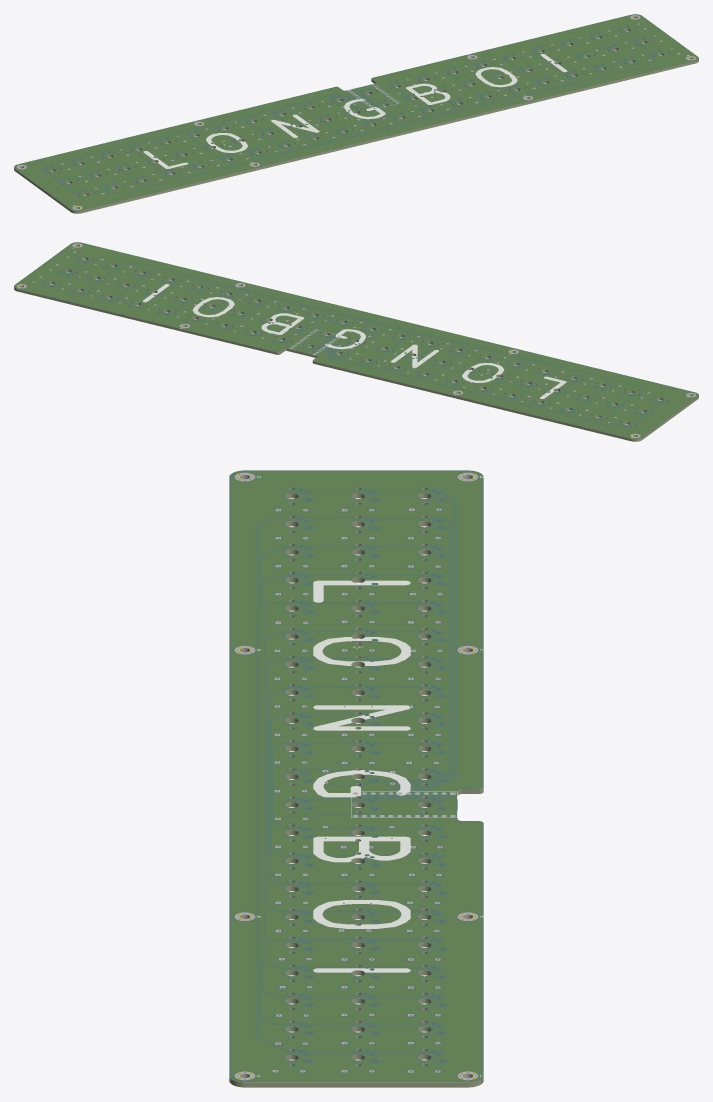
The model's file is board.glb.
3 views of the same model, one above another, from view 1: azimuth 30°, elevation 25°; view 2: azimuth 150°, elevation 25°; view 3: azimuth 270°, elevation 25° (orthographic). The views are drawn at different scales.
Parts seen in each view (by area): view 1: board_soldermask, board_copper, board_PCB, board_silkscreen, board_pad; view 2: board_soldermask, board_copper, board_PCB, board_silkscreen, board_pad; view 3: board_soldermask, board_copper, board_PCB, board_silkscreen, board_pad.
Boxes of the visible parts, x1=… form: board_soldermask: x1=14, y1=14, x2=698, y2=211; board_copper: x1=17, y1=15, x2=695, y2=209; board_PCB: x1=14, y1=15, x2=698, y2=213; board_silkscreen: x1=18, y1=14, x2=688, y2=205; board_pad: x1=16, y1=15, x2=696, y2=210; board_soldermask: x1=14, y1=242, x2=698, y2=439; board_copper: x1=17, y1=243, x2=695, y2=437; board_PCB: x1=14, y1=243, x2=698, y2=441; board_silkscreen: x1=18, y1=247, x2=686, y2=438; board_pad: x1=16, y1=243, x2=696, y2=438; board_soldermask: x1=229, y1=470, x2=483, y2=1082; board_copper: x1=232, y1=472, x2=480, y2=1080; board_PCB: x1=229, y1=471, x2=483, y2=1087; board_silkscreen: x1=257, y1=475, x2=483, y2=1076; board_pad: x1=234, y1=472, x2=478, y2=1080.
Bounding box in the file's own units: 0.4155 × 0.00166 × 0.073.
